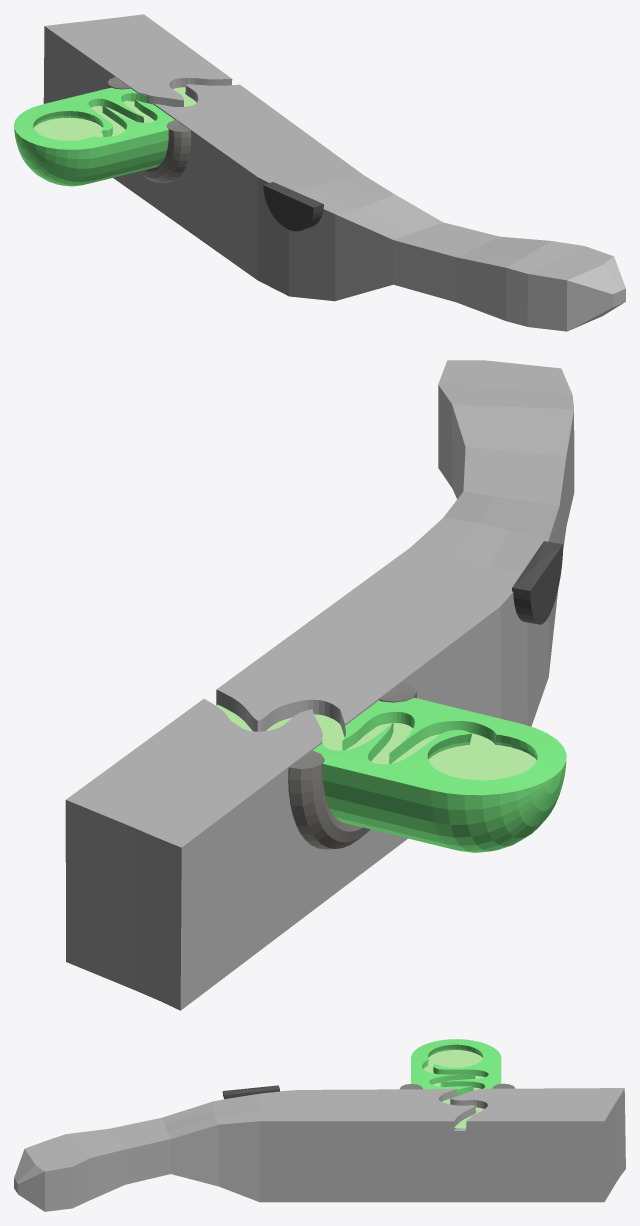
The model's file is АннигилторнаяПушка.fbx.
3 renders of one model, top to bottom at view 1: azimuth 30°, elevation 25°; view 2: azimuth 150°, elevation 25°; view 3: azimuth 270°, elevation 25°, orthographic. The views are drawn at different scales.
Visible parts, largest first — view 1: Cube, Сфера.001, Окружность, Torus, Плоскость; view 2: Cube, Сфера.001, Torus, Плоскость, Окружность, Плоскость.001; view 3: Cube, Сфера.001, Плоскость, Окружность.
Part boxes in pixels (x1=…): Cube: x1=43, y1=14, x2=625, y2=331; Сфера.001: x1=14, y1=87, x2=174, y2=186; Окружность: x1=263, y1=182, x2=323, y2=231; Torus: x1=107, y1=77, x2=191, y2=182; Плоскость: x1=34, y1=100, x2=154, y2=140; Cube: x1=65, y1=360, x2=574, y2=1010; Сфера.001: x1=313, y1=697, x2=566, y2=852; Torus: x1=288, y1=683, x2=416, y2=849; Плоскость: x1=346, y1=723, x2=536, y2=780; Окружность: x1=512, y1=541, x2=563, y2=624; Плоскость.001: x1=216, y1=704, x2=344, y2=750; Cube: x1=14, y1=1088, x2=625, y2=1211; Сфера.001: x1=411, y1=1039, x2=501, y2=1097; Плоскость: x1=423, y1=1050, x2=484, y2=1090; Окружность: x1=222, y1=1085, x2=279, y2=1099.
Size of the model in its own units: 1256 by 388 by 2566.
